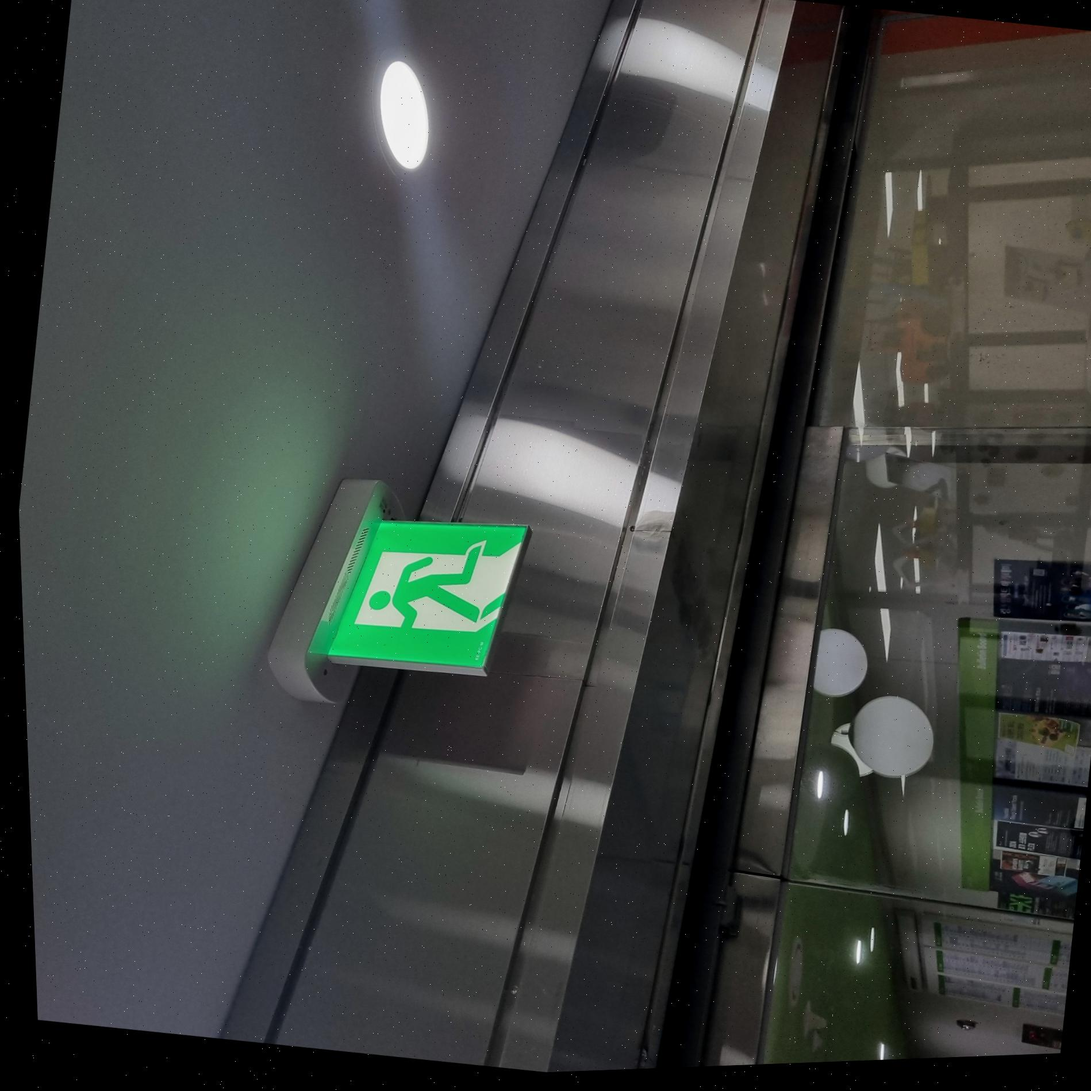emergency_exit: (320, 515, 531, 679)
